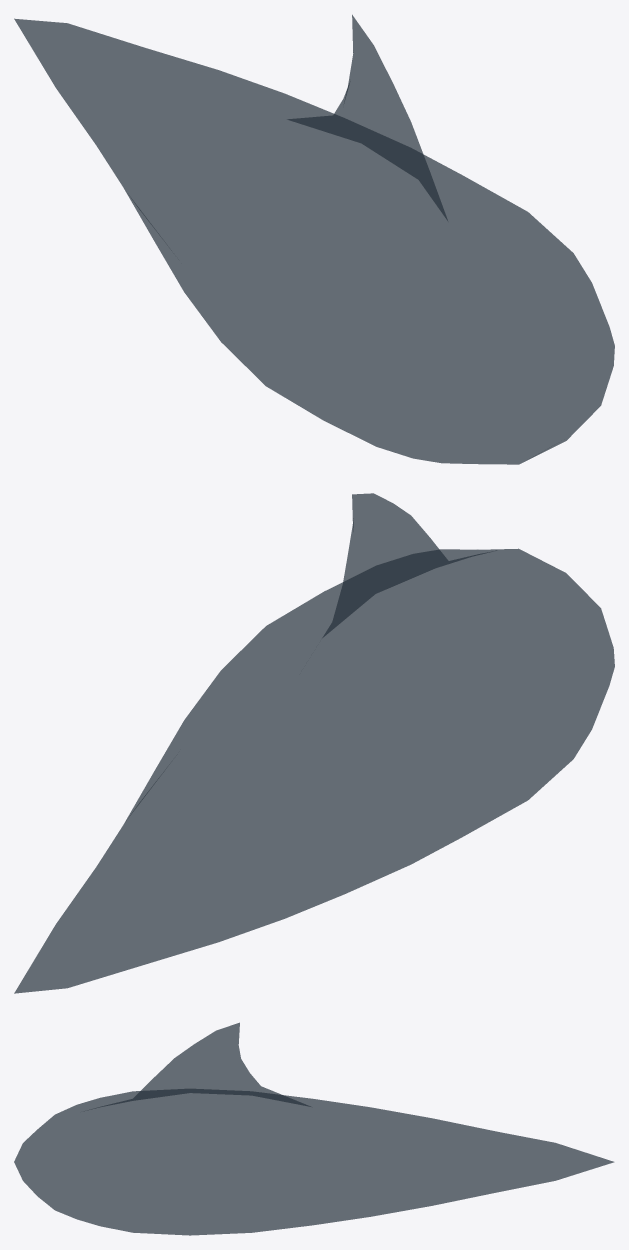
File: narrow.glb
3 views of the same model, one above another, from view 1: azimuth 30°, elevation 25°; view 2: azimuth 150°, elevation 25°; view 3: azimuth 270°, elevation 25° (orthographic). The views are drawn at different scales.
Bounding box in the file's own units: 3.04 × 3.48 × 9.43.
